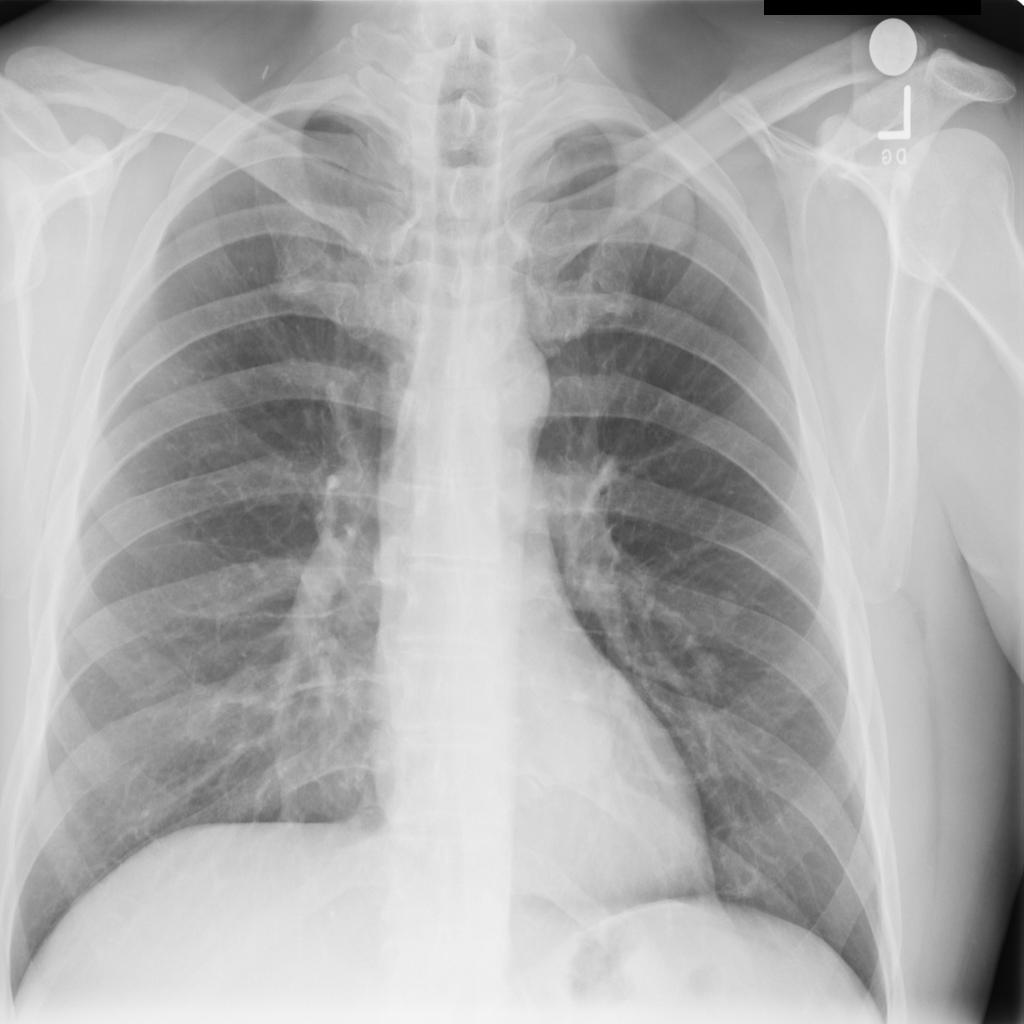nodule: (621, 149, 712, 272), (541, 702, 621, 787), (706, 576, 754, 630)
